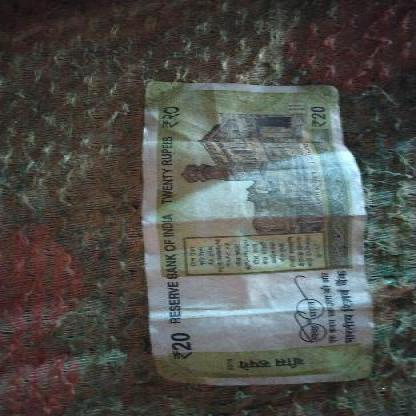New20Back: (143, 82, 374, 382)
